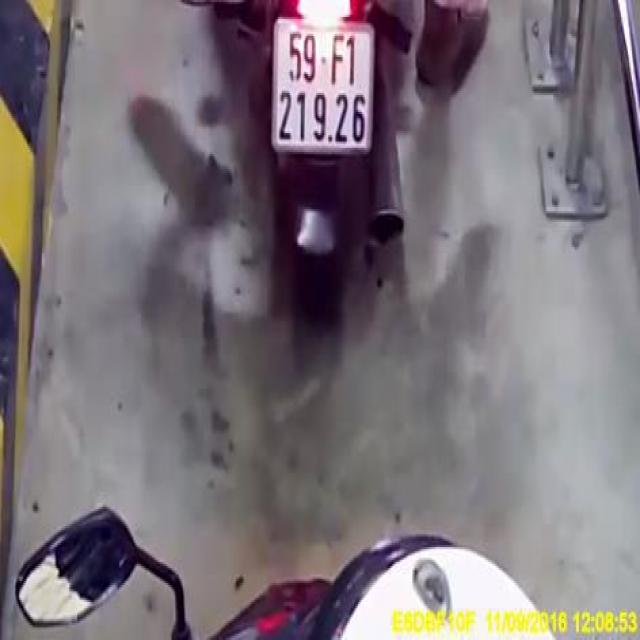License-Plates: (271, 25, 377, 154)
